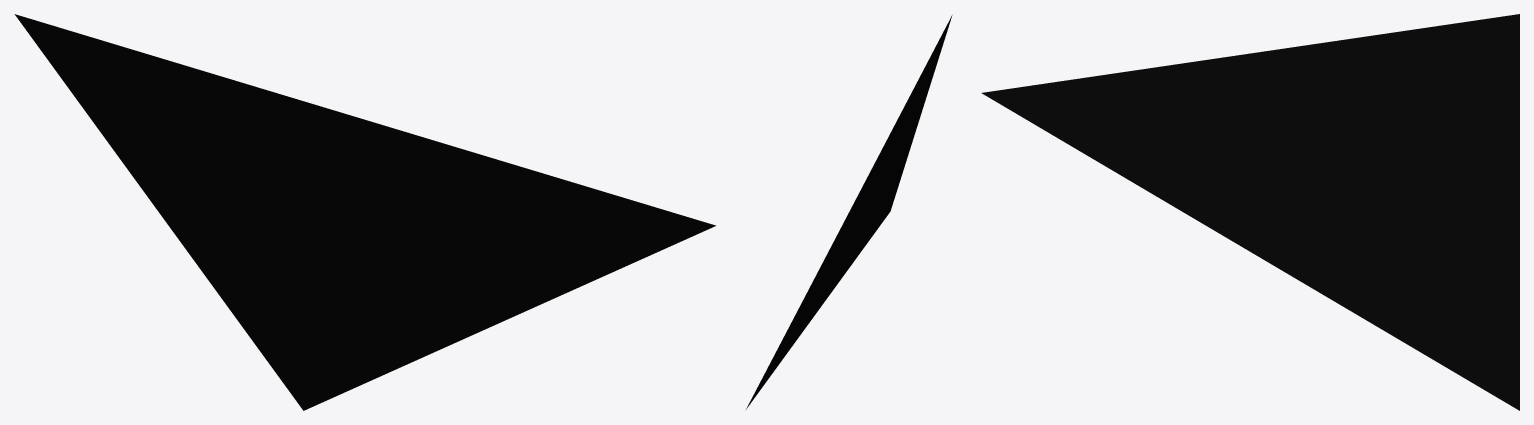
3 renders of one model, left to right at view 1: azimuth 30°, elevation 25°; view 2: azimuth 150°, elevation 25°; view 3: azimuth 270°, elevation 25°, orthographic. The views are drawn at different scales.
Bounding box in the file's own units: 0.5255 × 0.8466 × 1.3.
Materials: 1 (1 with a texture image).
